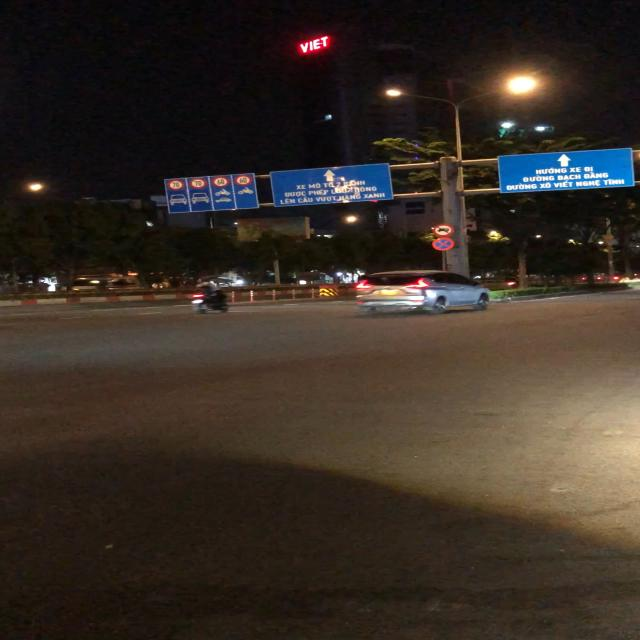Bien bao cam dung xe va do xe: (429, 237, 456, 251)
Bien bao cam xe oto tai: (430, 223, 456, 237)
Bien bao toc do toi da cho phep: (233, 174, 255, 186), (210, 176, 230, 187), (166, 179, 184, 190), (189, 178, 206, 188)
